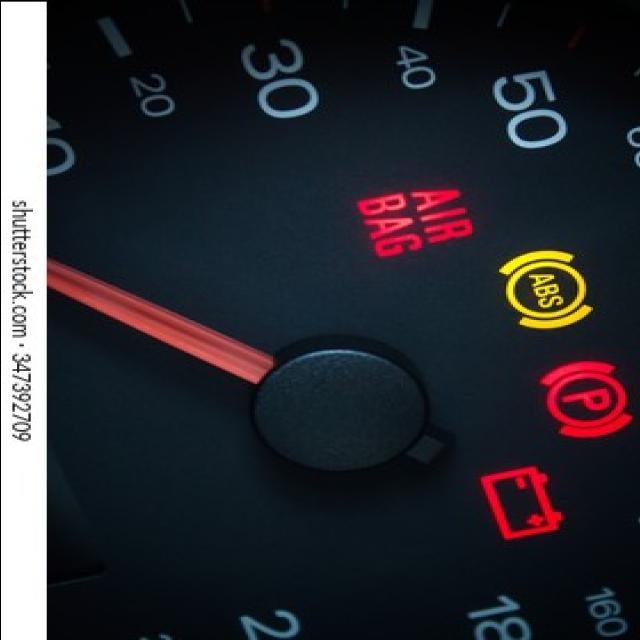Anti Lock Braking System: (494, 246, 596, 333)
Charging System Issue: (476, 462, 564, 544)
SRS-Airbag: (354, 185, 476, 261)
